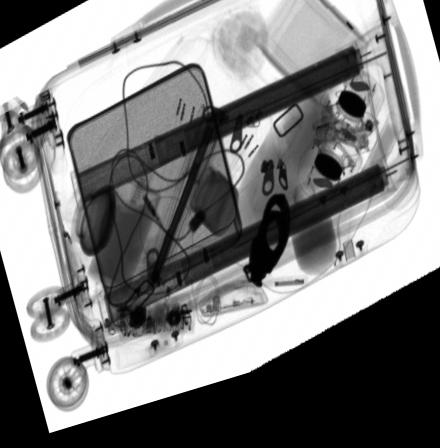HandCuffs: (243, 205, 290, 309)
